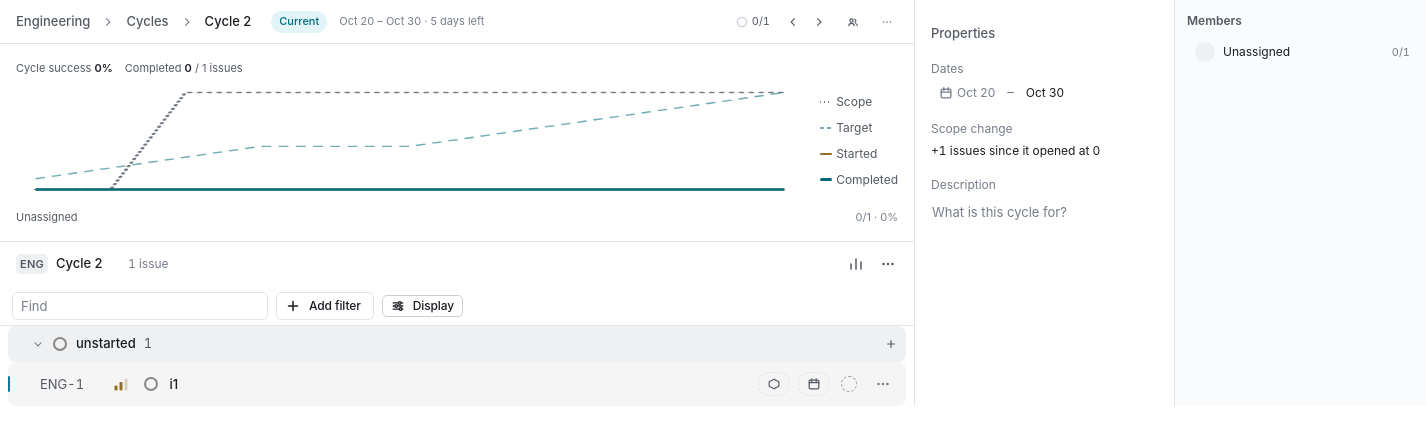
it: CycleDetail header › steps back on the chord its tooltip advertises
Hover over the button named "Previous cycle".
mouse_move(793, 22)  # box [782,10,804,32]
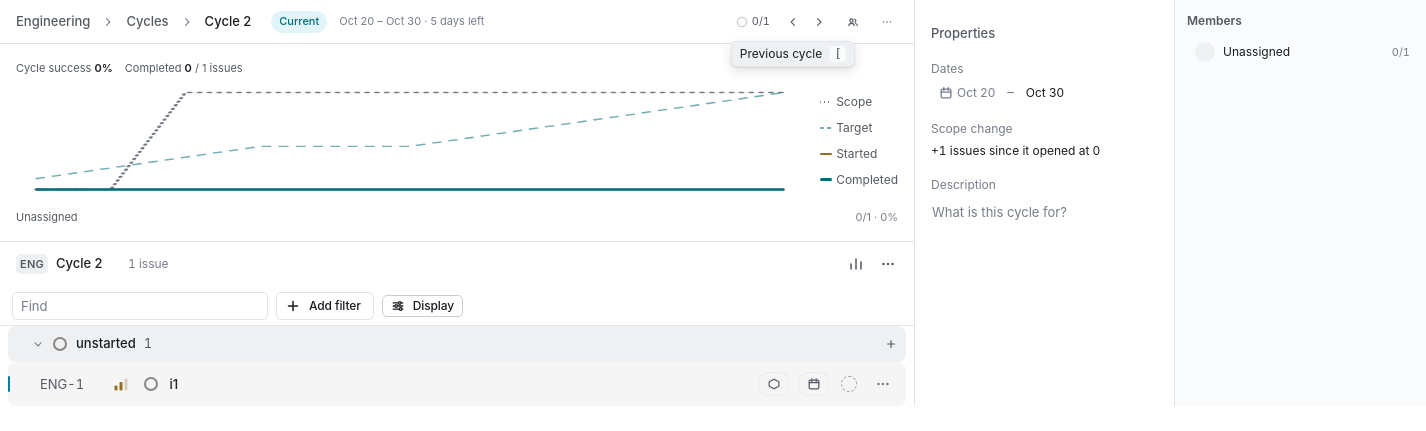
Check: the tooltip shows "[", box [836,46,840,60]
Type keys "[BracketLeft]"
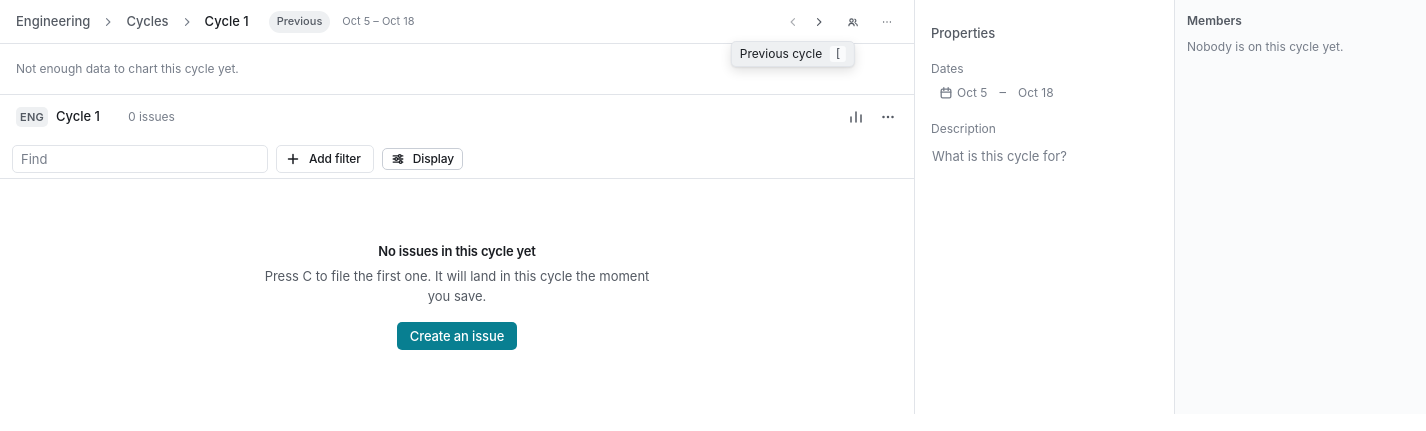
Check: the header "Cycle" shows "Cycle 1", box [205,13,249,29]
